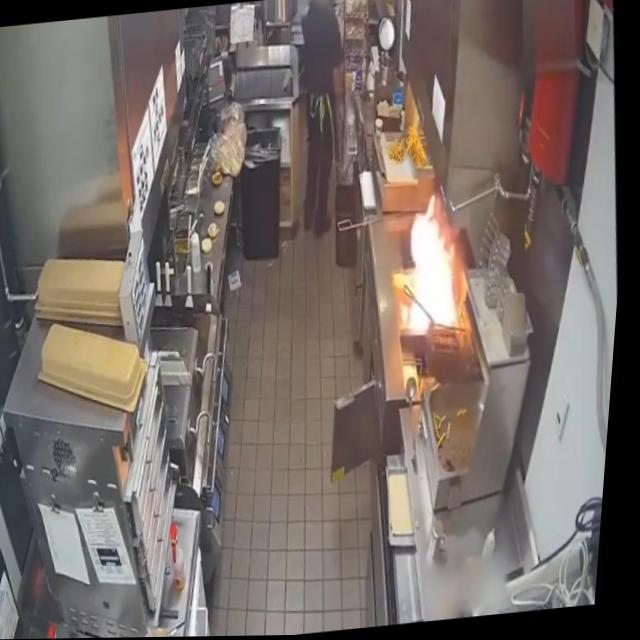fire: (393, 183, 475, 337)
